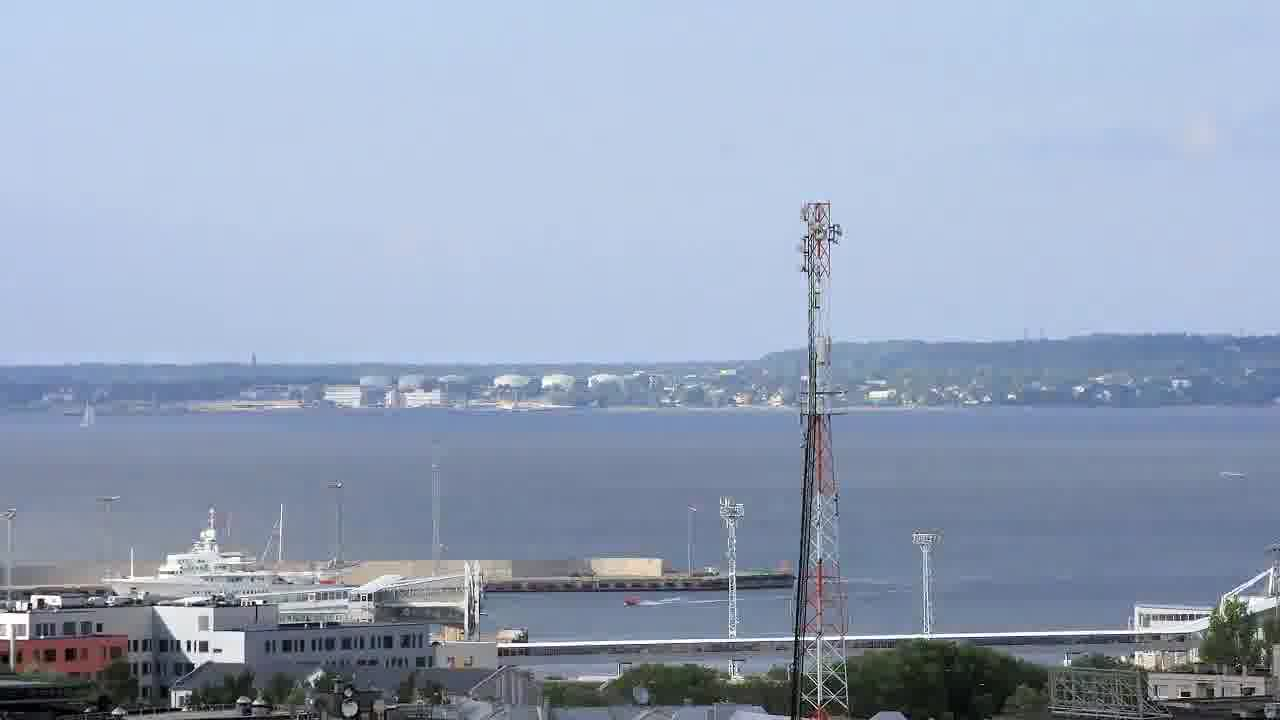type-2: (59, 392, 108, 445)
type-3: (88, 507, 346, 605)
type-4: (609, 588, 653, 620)
